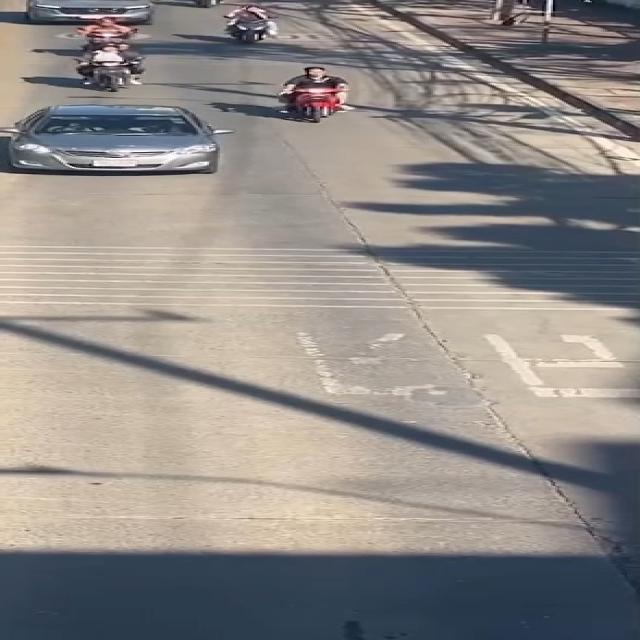car: (0, 97, 255, 189)
